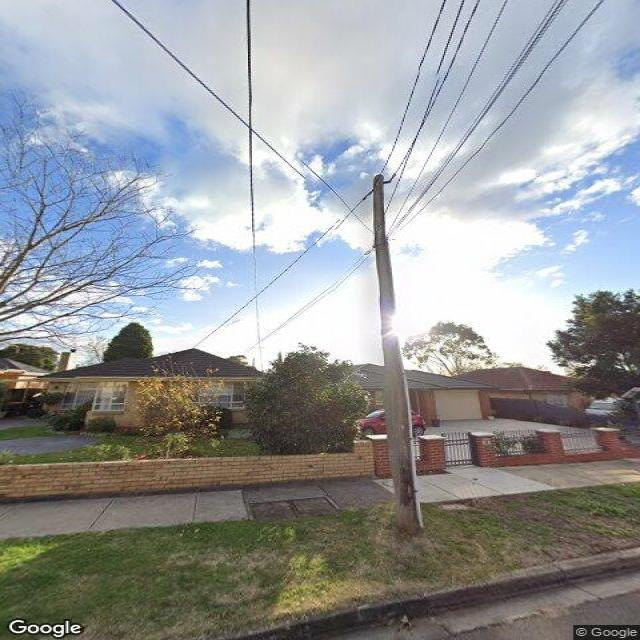timber-pole: (371, 174, 421, 534)
